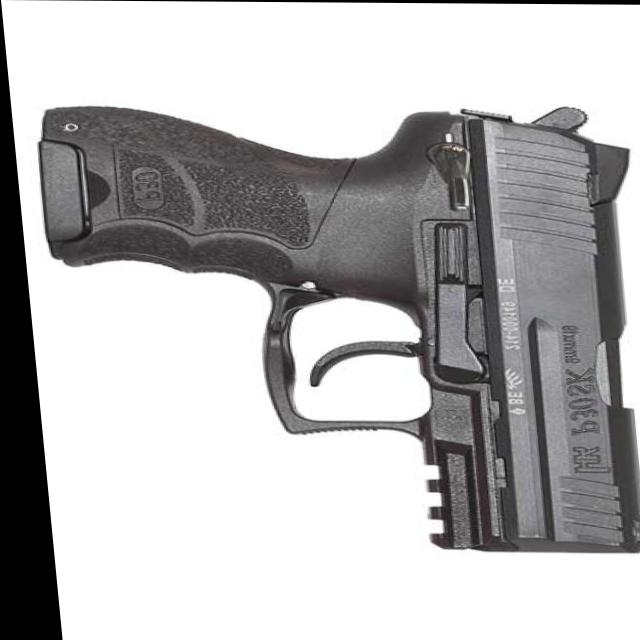handgun: (29, 98, 640, 562)
